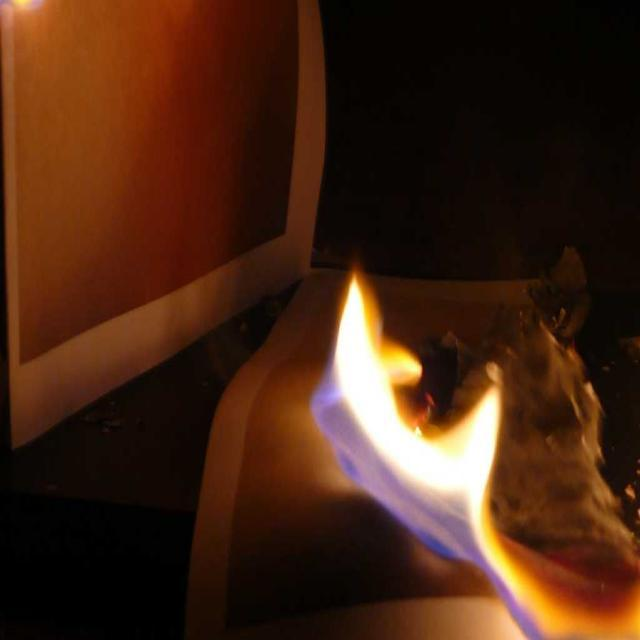Fire: (323, 320, 492, 534)
